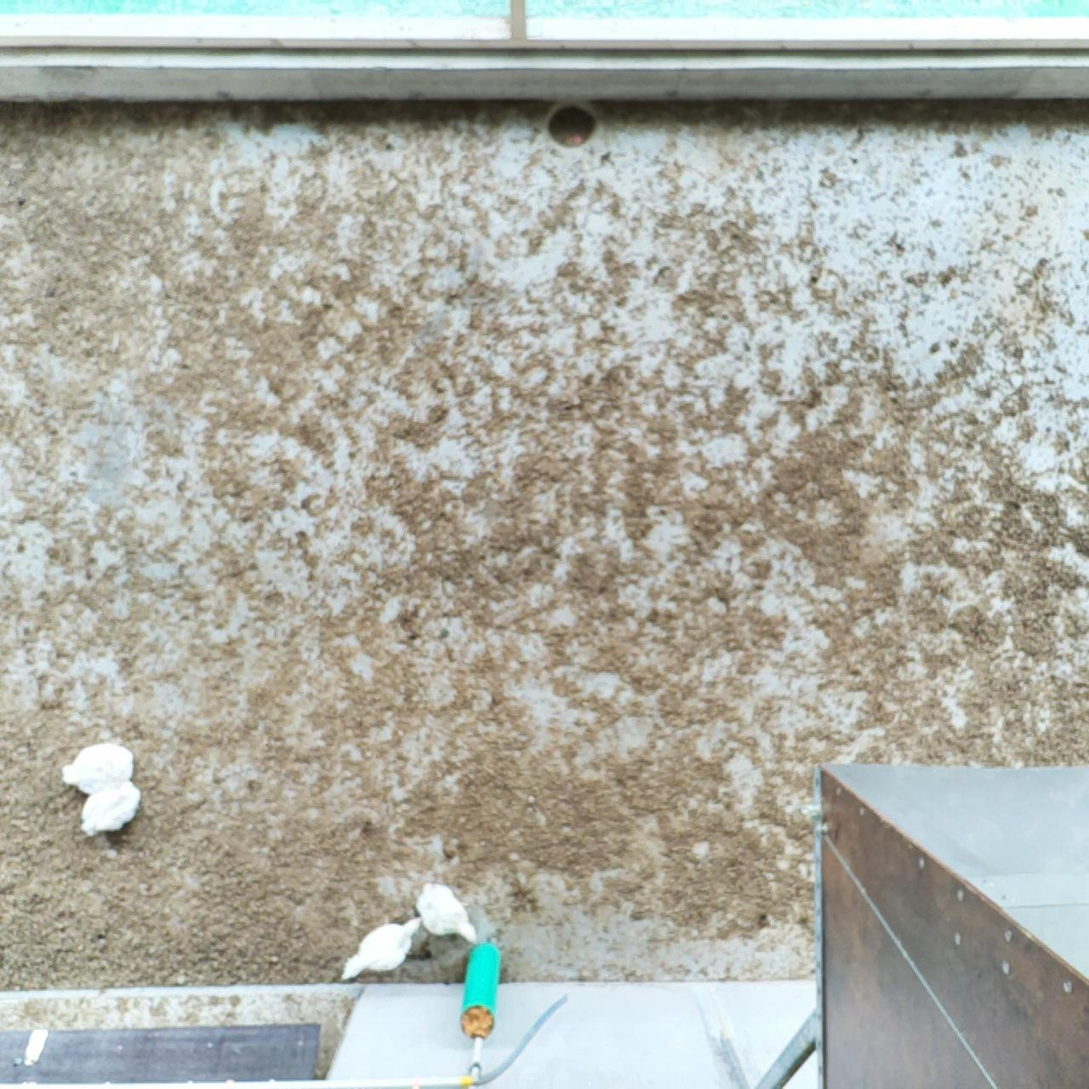chicken: (337, 913, 427, 986), (413, 878, 482, 951), (57, 742, 140, 800), (74, 777, 146, 843)
